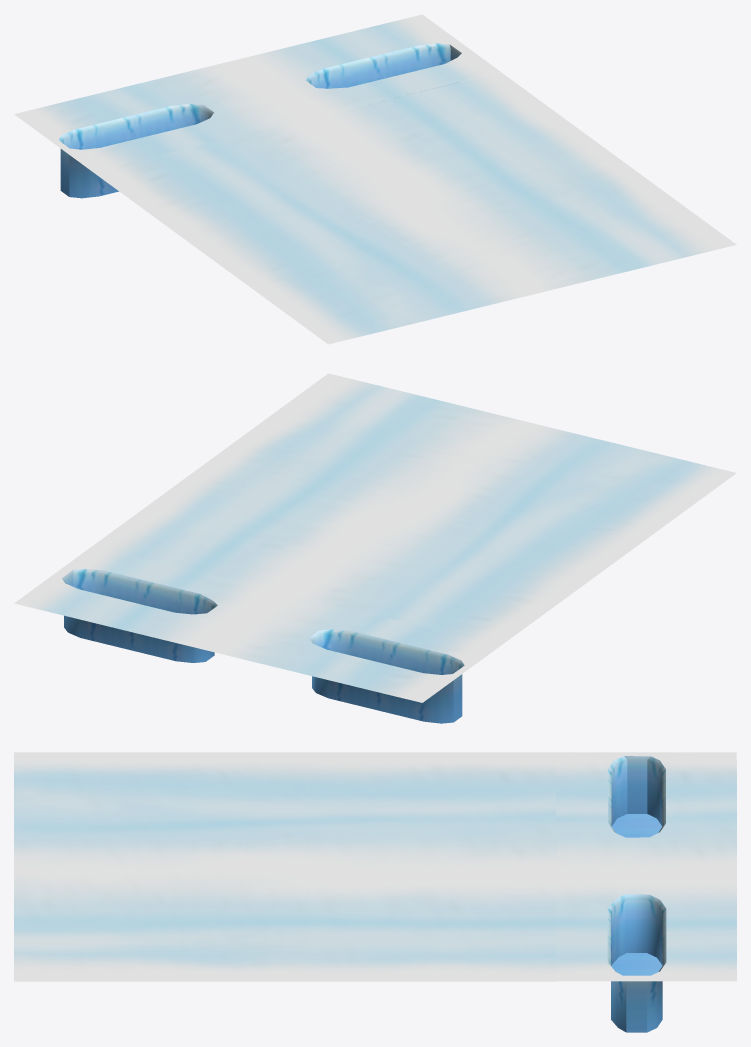
The model's file is Hole_S_01_D.FBX.
The picture shows the model from 3 angles, top to bottom: view 1: azimuth 30°, elevation 25°; view 2: azimuth 150°, elevation 25°; view 3: azimuth 270°, elevation 25°; orthographic projection. The views are drawn at different scales.
Visible parts, largest first — view 1: Object130; view 2: Object130; view 3: Object130.
Part boxes in pixels (x1,y1,x2,y2): Object130: [14, 14, 736, 344]; Object130: [14, 373, 736, 723]; Object130: [14, 752, 736, 1032].
Bounding box in the file's own units: 600 × 70 × 800.
